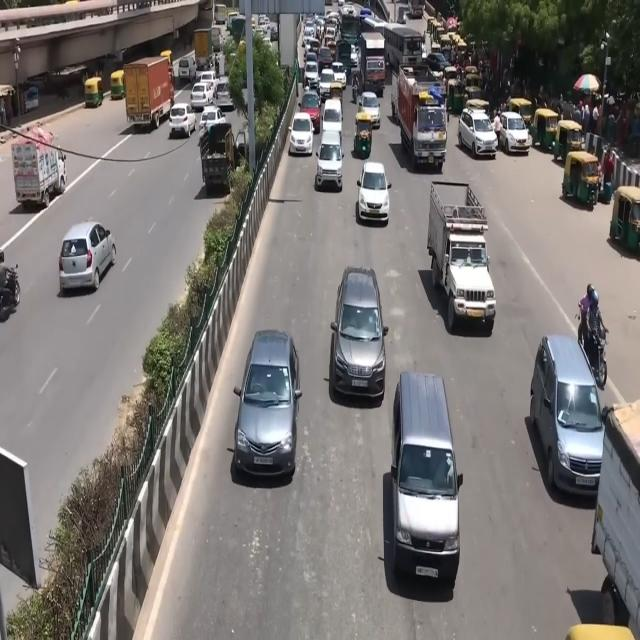auto: (562, 148, 602, 208), (608, 186, 640, 255), (552, 118, 583, 166), (532, 106, 560, 152), (508, 96, 534, 134), (354, 112, 374, 160), (446, 76, 466, 114), (84, 76, 103, 108), (110, 70, 126, 100), (160, 49, 172, 69)
bike-auto: (578, 286, 608, 371)
